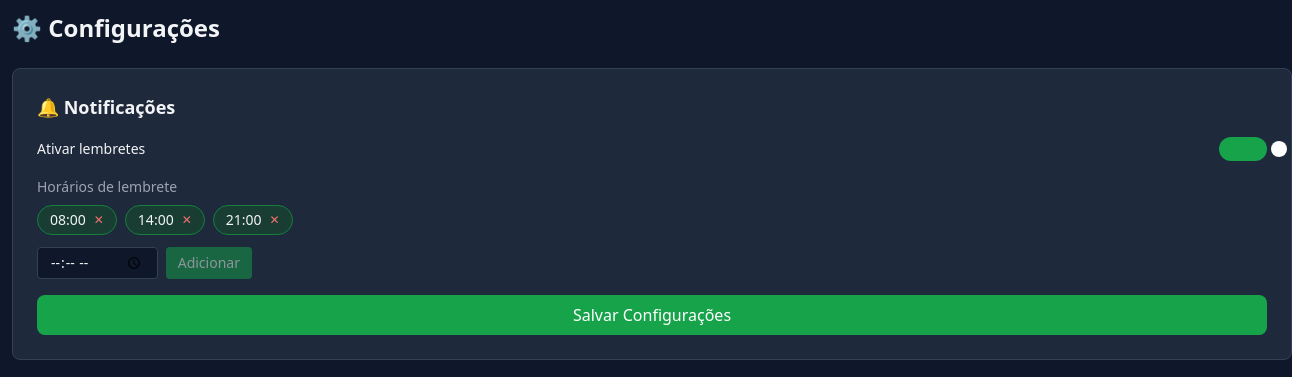
Test: SettingsPage › can remove an hour
expect the text "08:00" is shown: met, box [50,210,86,229]
Click the button "✕" next to "08:00": [99, 220] box [94,212,104,228]
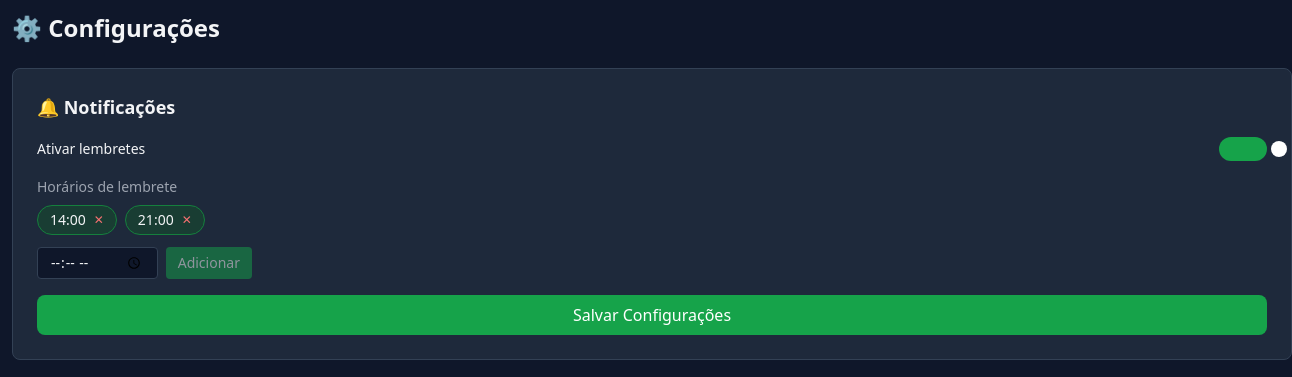
expect the text "08:00" is gone: met
